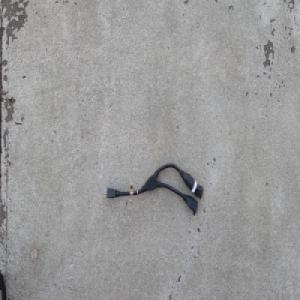Wire: (102, 162, 204, 216)
